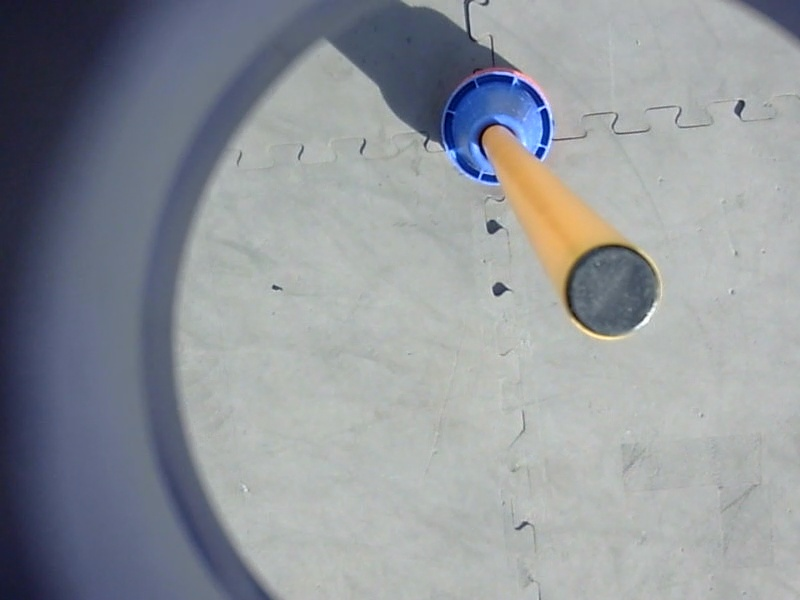tip: (556, 237, 668, 346)
